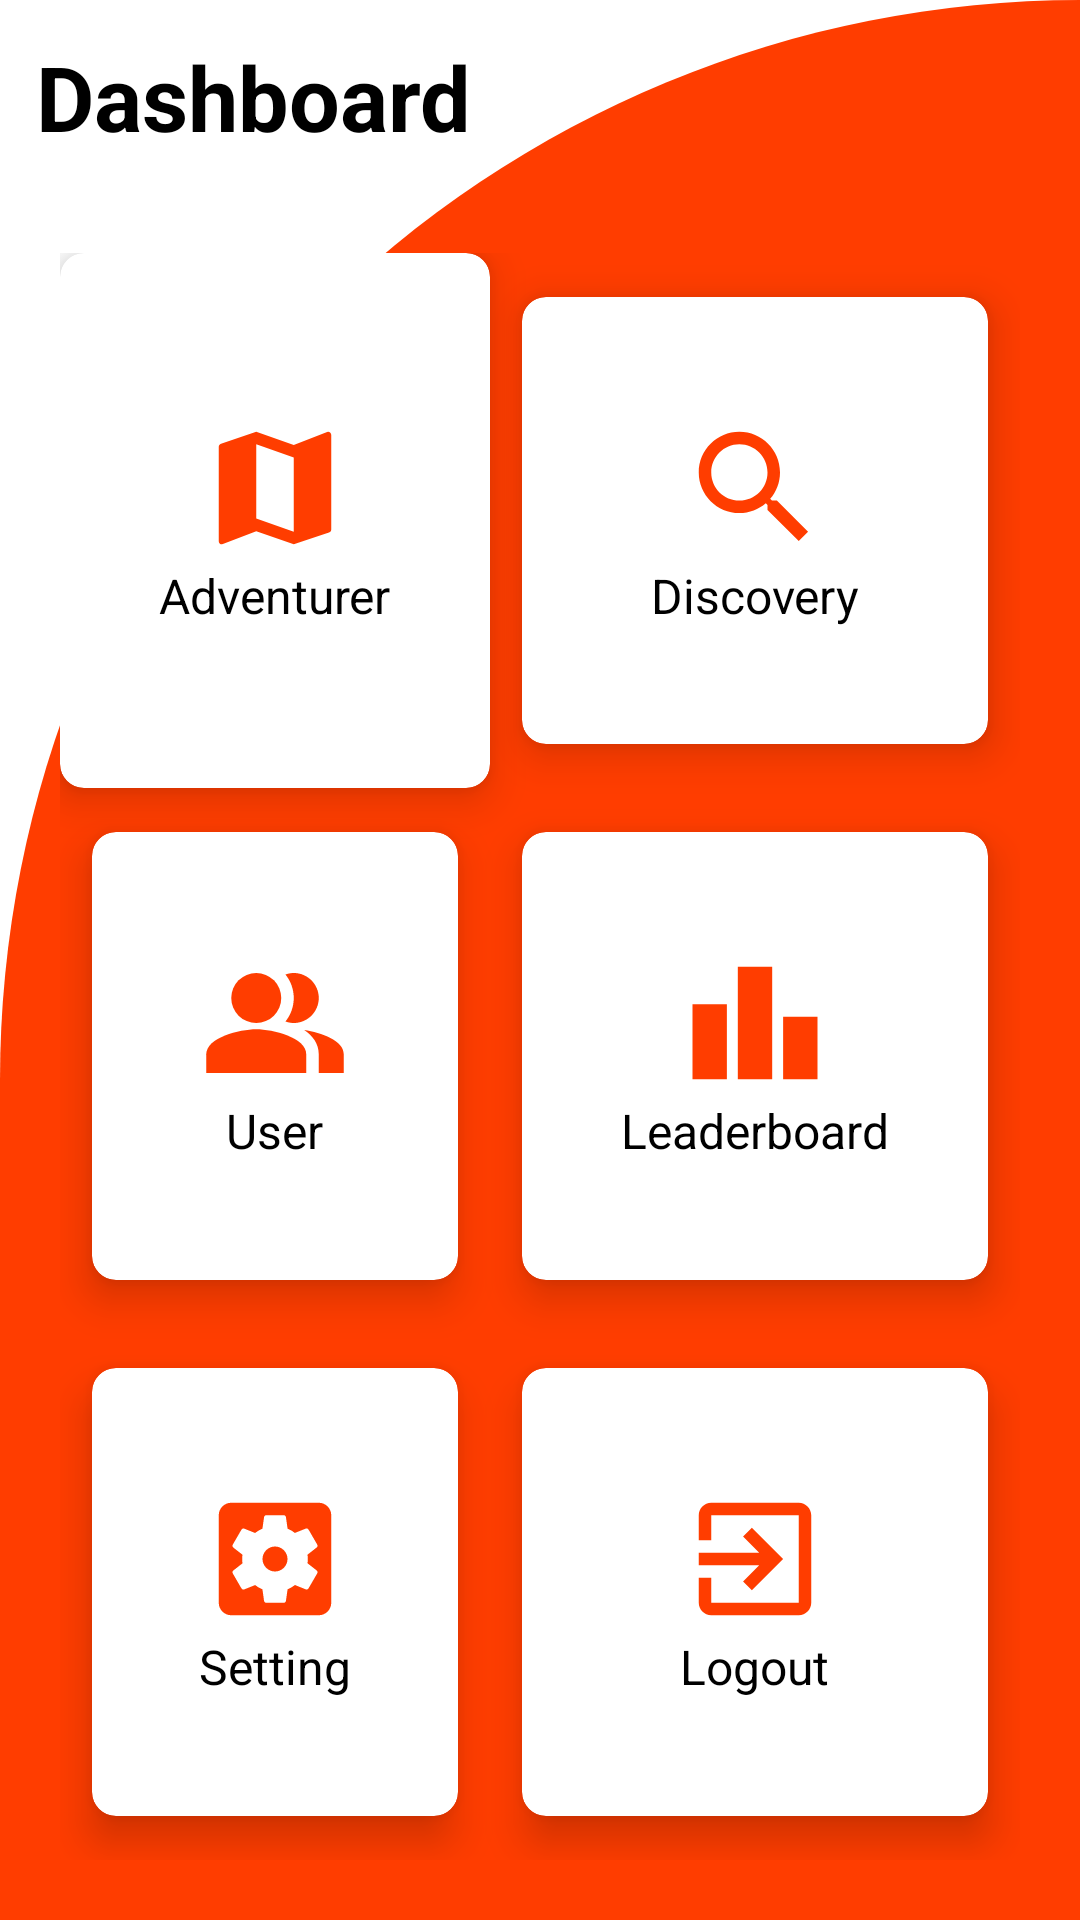

Icons on this 1080w x 1920h Android screen, each with the point to tap as (x=x, y=y):
multiplayer: (x=275, y=1023)
